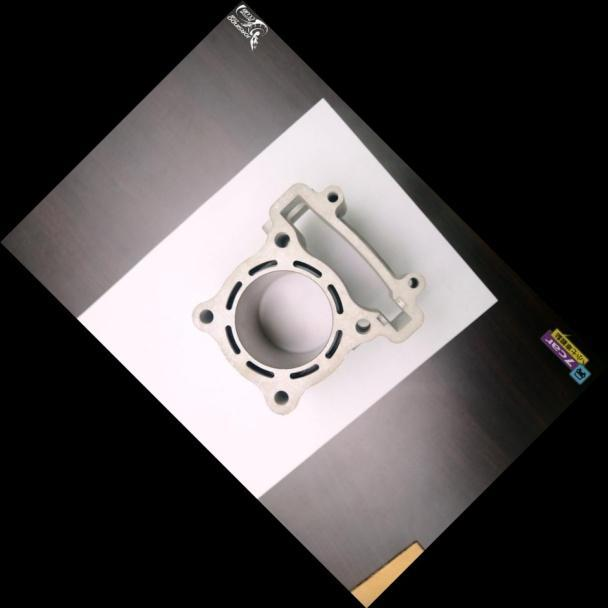hole: (349, 312, 375, 339), (268, 226, 293, 251), (193, 303, 217, 326), (267, 384, 291, 407), (321, 185, 340, 204), (402, 273, 420, 292)
